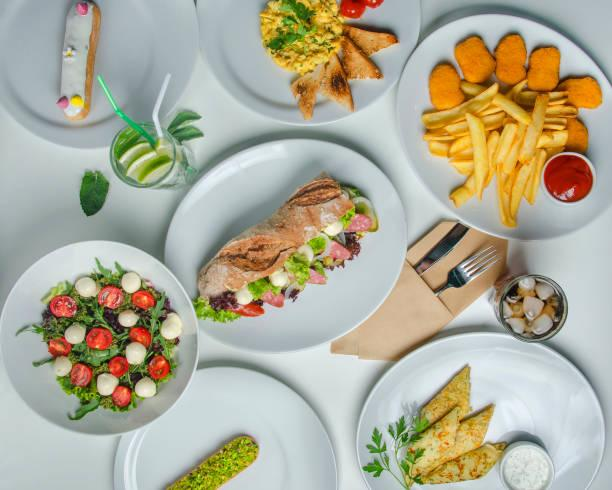Braised Crucian Carp: (163, 138, 404, 353), (395, 10, 609, 240), (358, 330, 611, 490), (0, 240, 200, 438), (107, 360, 337, 490), (0, 0, 200, 149), (196, 0, 417, 123)
